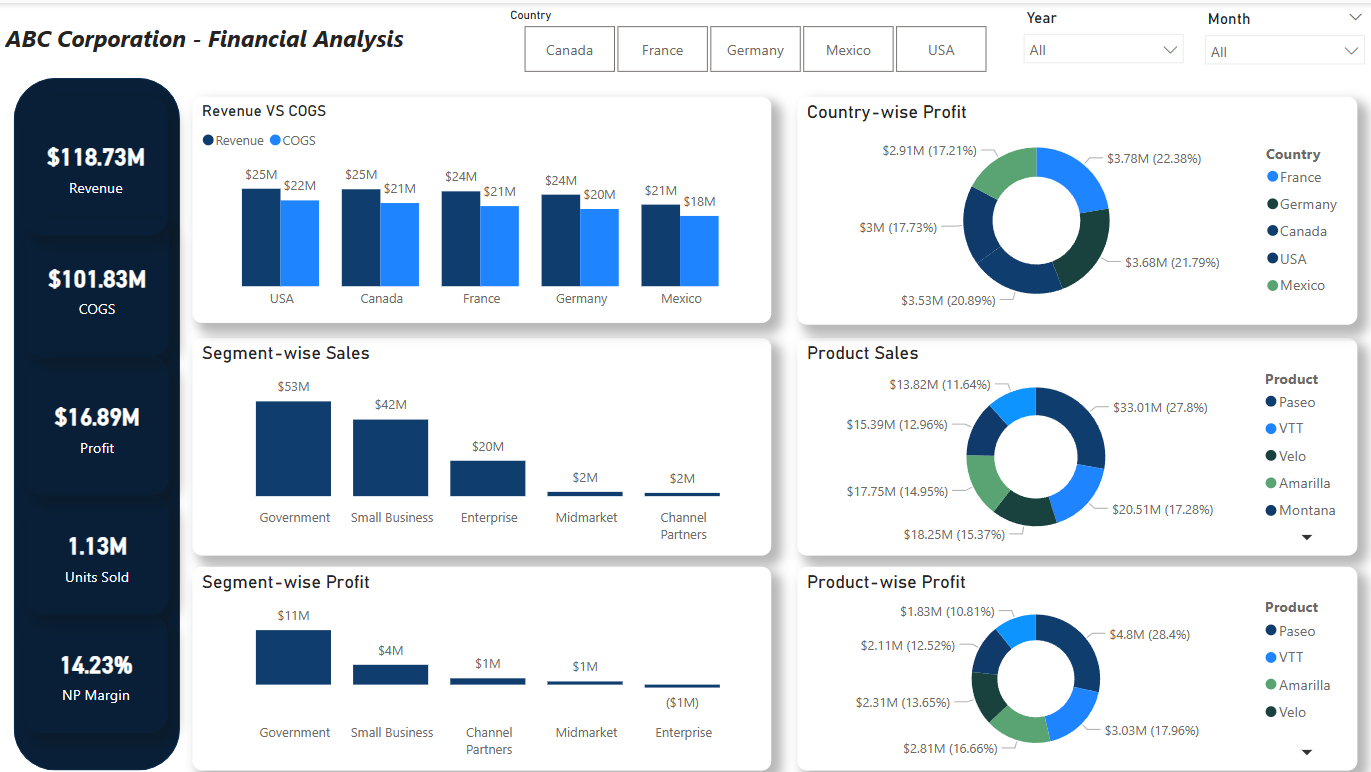

The page's visual inventory and layout, read from the dashboard file:
{"tool":"powerbi","page":{"name":"Overview","canvas":[1280,720],"ordinal":0},"visuals":[{"type":"shape","box":[12.8,69.8,154.7,644.2],"z":0},{"type":"card","fields":{"Values":["Sum(financials. Sales)"]},"box":[22.1,87.2,133.7,129.1],"z":1000},{"type":"card","fields":{"Values":["Sum(financials.COGS)"]},"box":[23.3,200,133.7,129.1],"z":2000},{"type":"card","fields":{"Values":["Sum(financials.Profit)"]},"box":[23.3,329.1,133.7,129.1],"z":3000},{"type":"card","fields":{"Values":["Sum(financials.Units Sold)"]},"box":[23.3,458.1,133.7,110.5],"z":4000},{"type":"columnChart","title":"Segment-wise Sales","fields":{"Y":["Sum(financials. Sales)"],"Category":["financials.Segment"]},"box":[179.1,311.6,538.4,202.3],"z":5000},{"type":"donutChart","title":"Product Sales","fields":{"Category":["financials.Product"],"Y":["Sum(financials. Sales)"]},"box":[741.9,311.6,520.9,202.3],"z":6000},{"type":"columnChart","title":"Segment-wise Profit","fields":{"Y":["Sum(financials.Profit)"],"Category":["financials.Segment"]},"box":[179.1,524.4,538.4,189.5],"z":7000},{"type":"donutChart","title":"Product-wise Profit","fields":{"Category":["financials.Product"],"Y":["Sum(financials.Profit)"]},"box":[741.9,524.4,520.9,189.5],"z":8000},{"type":"slicer","fields":{"Values":["financials.Country"]},"box":[461.6,0,480.2,70.9],"z":9000},{"type":"slicer","fields":{"Values":["financials.Date.Variation.Date Hierarchy.Month"]},"box":[1110.8,1.4,169.5,69.5],"z":10000},{"type":"slicer","fields":{"Values":["financials.Date.Variation.Date Hierarchy.Year"]},"box":[941.4,0,169.5,69.5],"z":11000},{"type":"donutChart","title":"Country-wise Profit","fields":{"Category":["financials.Country"],"Y":["Sum(financials.Profit)"]},"box":[741.9,87.2,520.9,211.6],"z":12000},{"type":"clusteredColumnChart","title":"Revenue VS COGS","fields":{"Y":["Sum(financials. Sales)","Sum(financials.COGS)"],"Category":["financials.Country"]},"box":[179.1,87.2,538.4,210.5],"z":13000},{"type":"card","fields":{"Values":["financials.NP Margin"]},"box":[22.1,568.6,133.7,110.5],"z":14000},{"type":"textbox","box":[0,12.8,448.8,47.7],"z":15000}]}

Visuals, with their boxes in screenshot pixels (x1, y1, x2, y2), scaled from the page's 1280x720 canvas onto the 1371x772 screenshot:
shape: select_region(14, 75, 179, 766)
card - Sum(financials. Sales): select_region(24, 93, 167, 232)
card - Sum(financials.COGS): select_region(25, 214, 168, 353)
card - Sum(financials.Profit): select_region(25, 353, 168, 491)
card - Sum(financials.Units Sold): select_region(25, 491, 168, 610)
"Segment-wise Sales" columnChart: select_region(192, 334, 769, 551)
"Product Sales" donutChart: select_region(795, 334, 1353, 551)
"Segment-wise Profit" columnChart: select_region(192, 562, 769, 765)
"Product-wise Profit" donutChart: select_region(795, 562, 1353, 765)
slicer - financials.Country: select_region(494, 0, 1009, 76)
slicer - financials.Date.Variation.Date Hierarchy.Month: select_region(1190, 2, 1370, 76)
slicer - financials.Date.Variation.Date Hierarchy.Year: select_region(1008, 0, 1190, 75)
"Country-wise Profit" donutChart: select_region(795, 93, 1353, 320)
"Revenue VS COGS" clusteredColumnChart: select_region(192, 93, 769, 319)
card - financials.NP Margin: select_region(24, 610, 167, 728)
textbox: select_region(0, 14, 481, 65)
